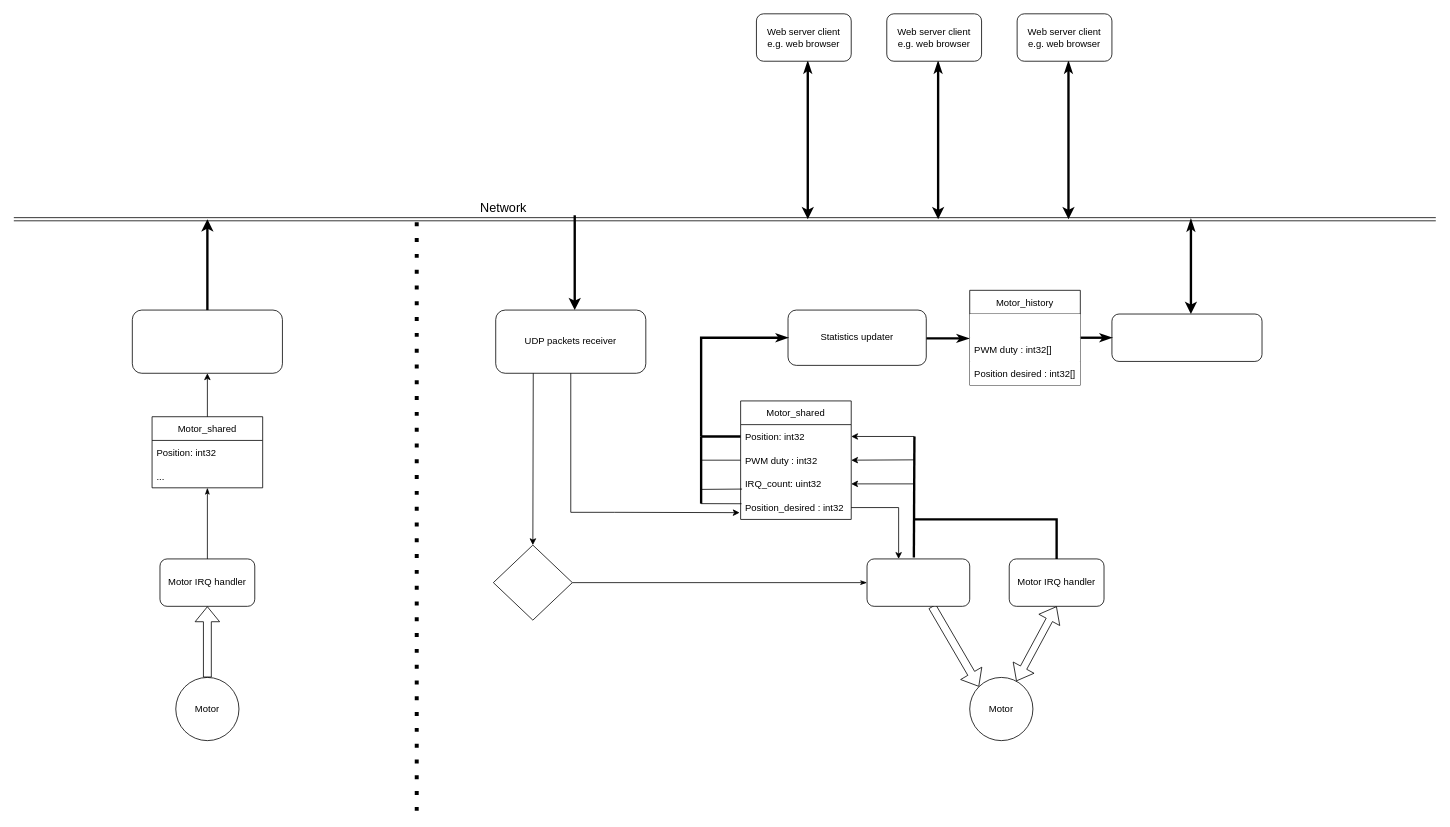
The diagram is 1450 pixels wide and 827 high, and some of its shapes have lost their labels. The centre of each missing label's shape, as x and y in pixels:
"Counting semaphore" belongs at pixel 532 582.
"Motor driver" belongs at pixel 918 582.
"Position: int32[]" belongs at pixel 1024 325.
"UDP packets sender" belongs at pixel 207 341.
"Web server" belongs at pixel 1186 337.
